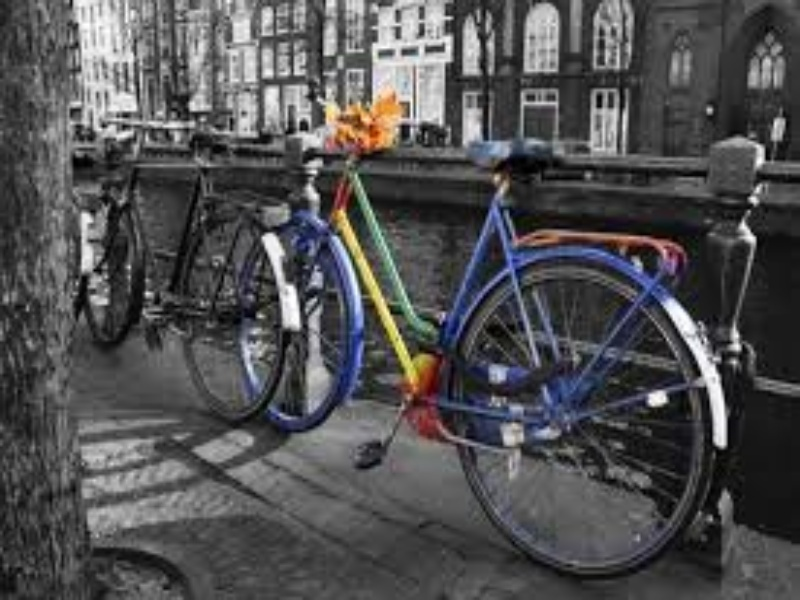bicycle: (206, 67, 759, 593)
